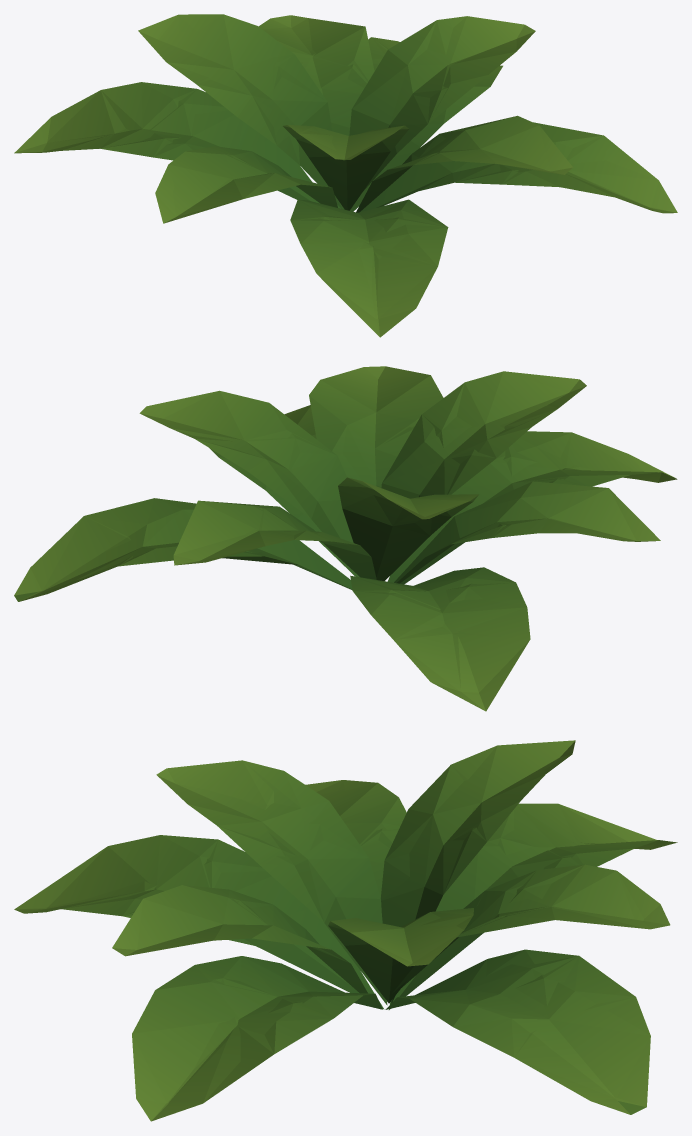
File: Plant_03.fbx
3 views of the same model, one above another, from view 1: azimuth 30°, elevation 25°; view 2: azimuth 150°, elevation 25°; view 3: azimuth 270°, elevation 25° (orthographic). The views are drawn at different scales.
Visible parts, largest first — view 1: Plant_03; view 2: Plant_03; view 3: Plant_03.
Boxes of the visible parts, left/top/right/bottom form: Plant_03: left=14, top=14, right=677, bottom=337; Plant_03: left=14, top=366, right=677, bottom=711; Plant_03: left=14, top=740, right=677, bottom=1121.
Bounding box in the file's own units: 0.938 × 0.3362 × 0.9821.
